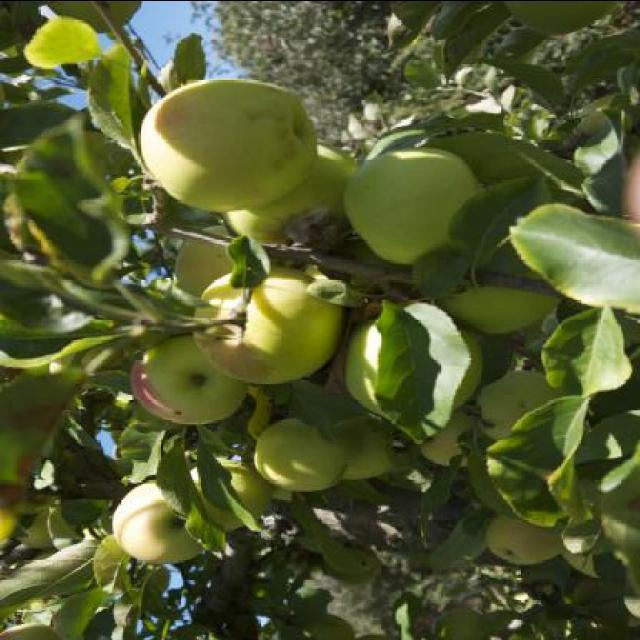Apple pie: (108, 137, 600, 580), (136, 67, 316, 215), (502, 1, 614, 39), (431, 603, 487, 640), (14, 508, 56, 550), (0, 620, 64, 640)
